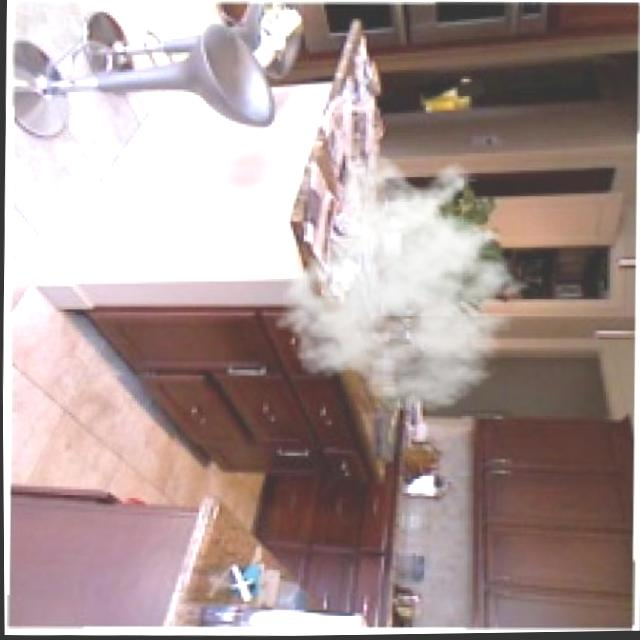Smoke: (270, 150, 544, 415)
